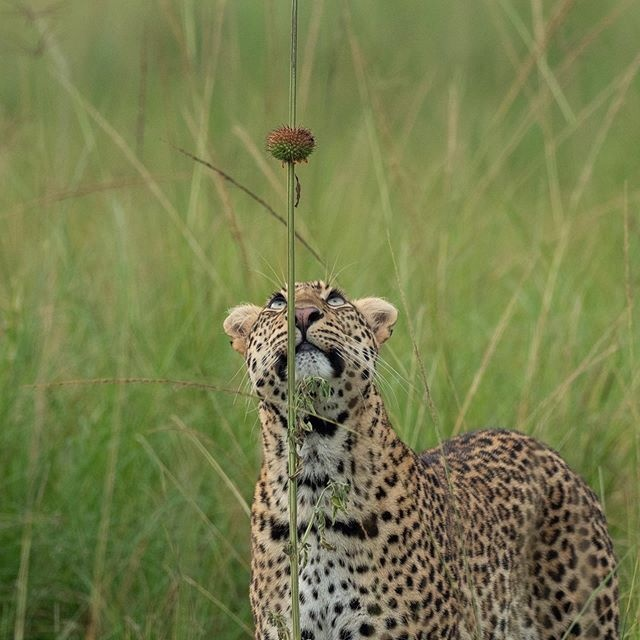leopard: (215, 247, 625, 640)
